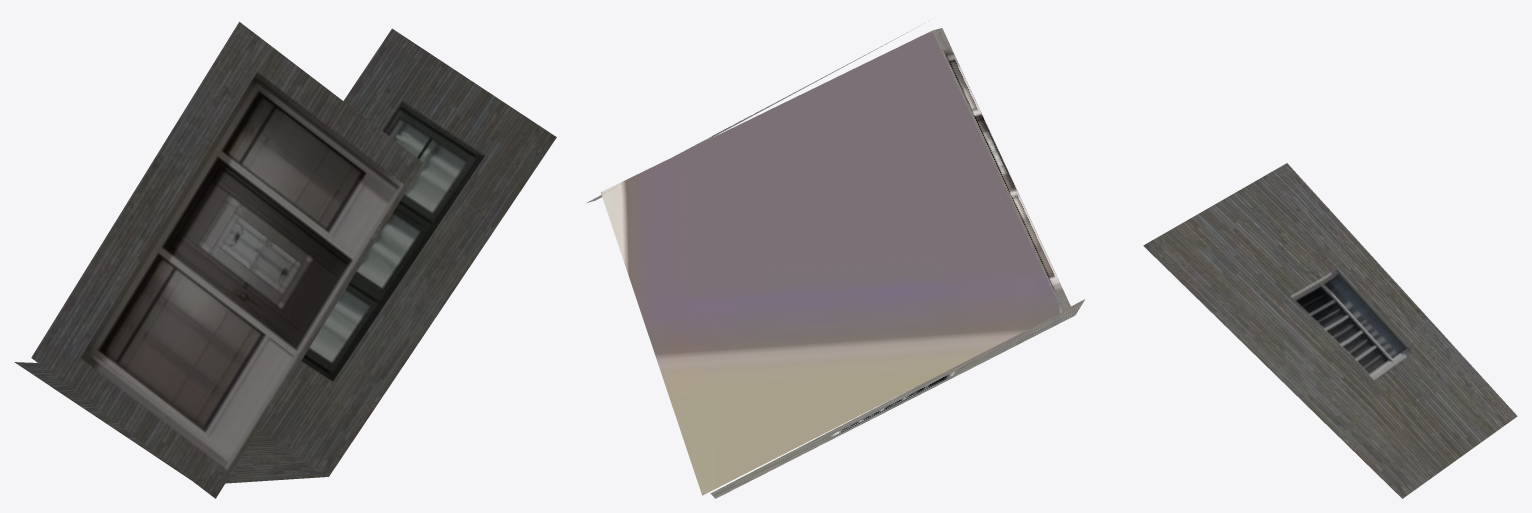
File: tile_LOD4_r12_c6.glb
3 renders of one model, left to right at view 1: azimuth 30°, elevation 25°; view 2: azimuth 150°, elevation 25°; view 3: azimuth 270°, elevation 25°, orthographic. The views are drawn at different scales.
Bounding box in the file's own units: 8.5 × 8 × 7.
4 materials, 4 textured.
